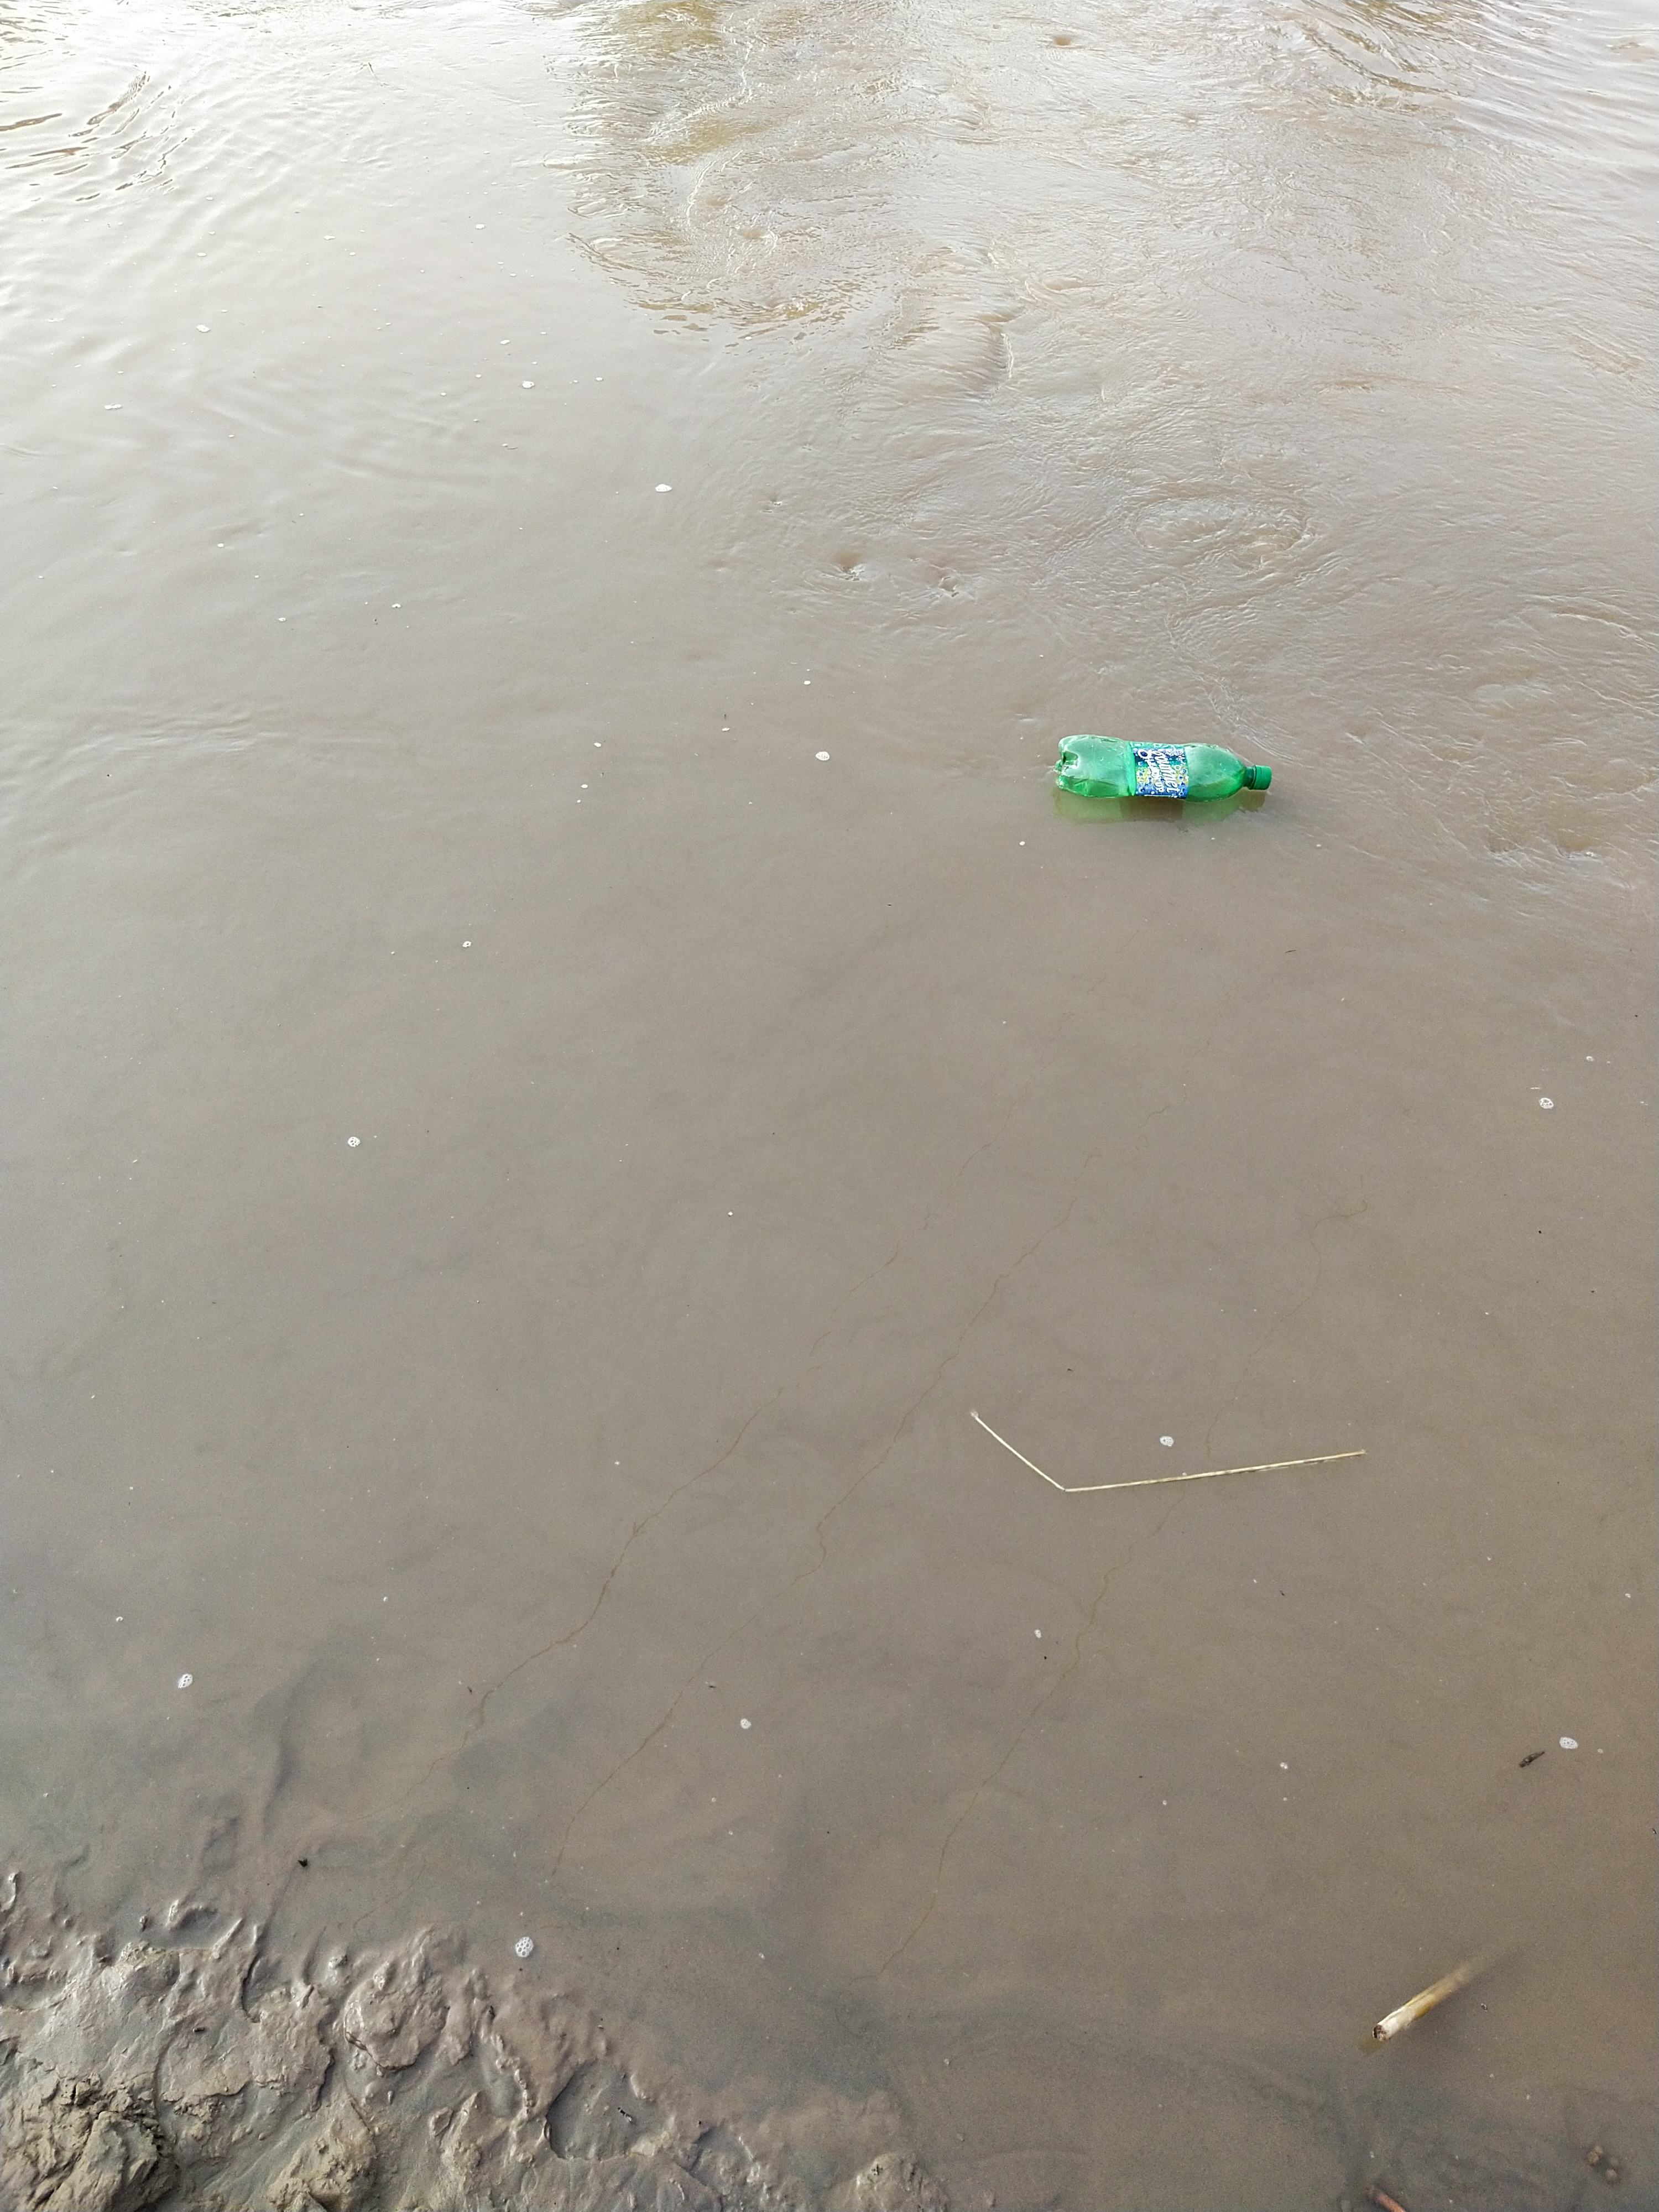Plastic Bottle: (1054, 733, 1272, 803)
